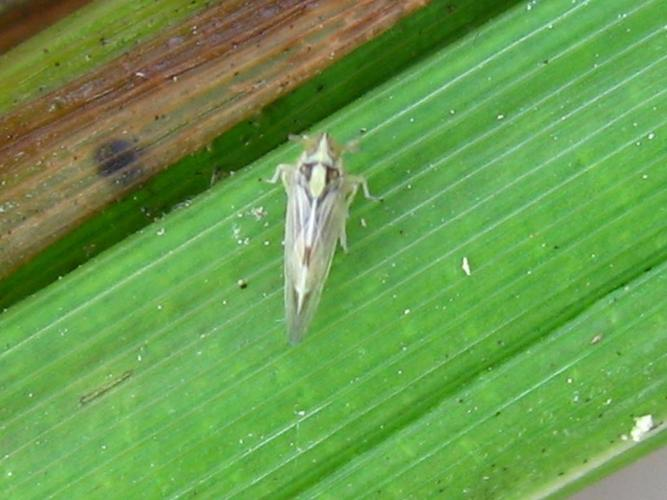Delphacidae: (257, 130, 384, 347)
